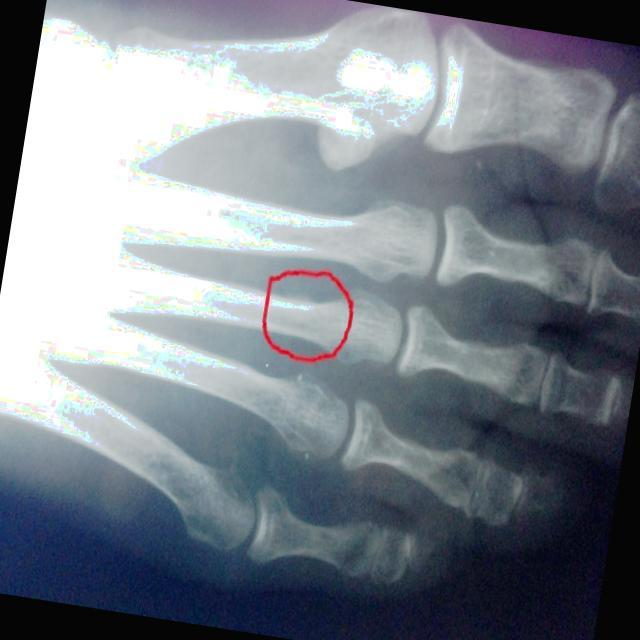HairLine Fracture: (278, 289, 326, 341)
